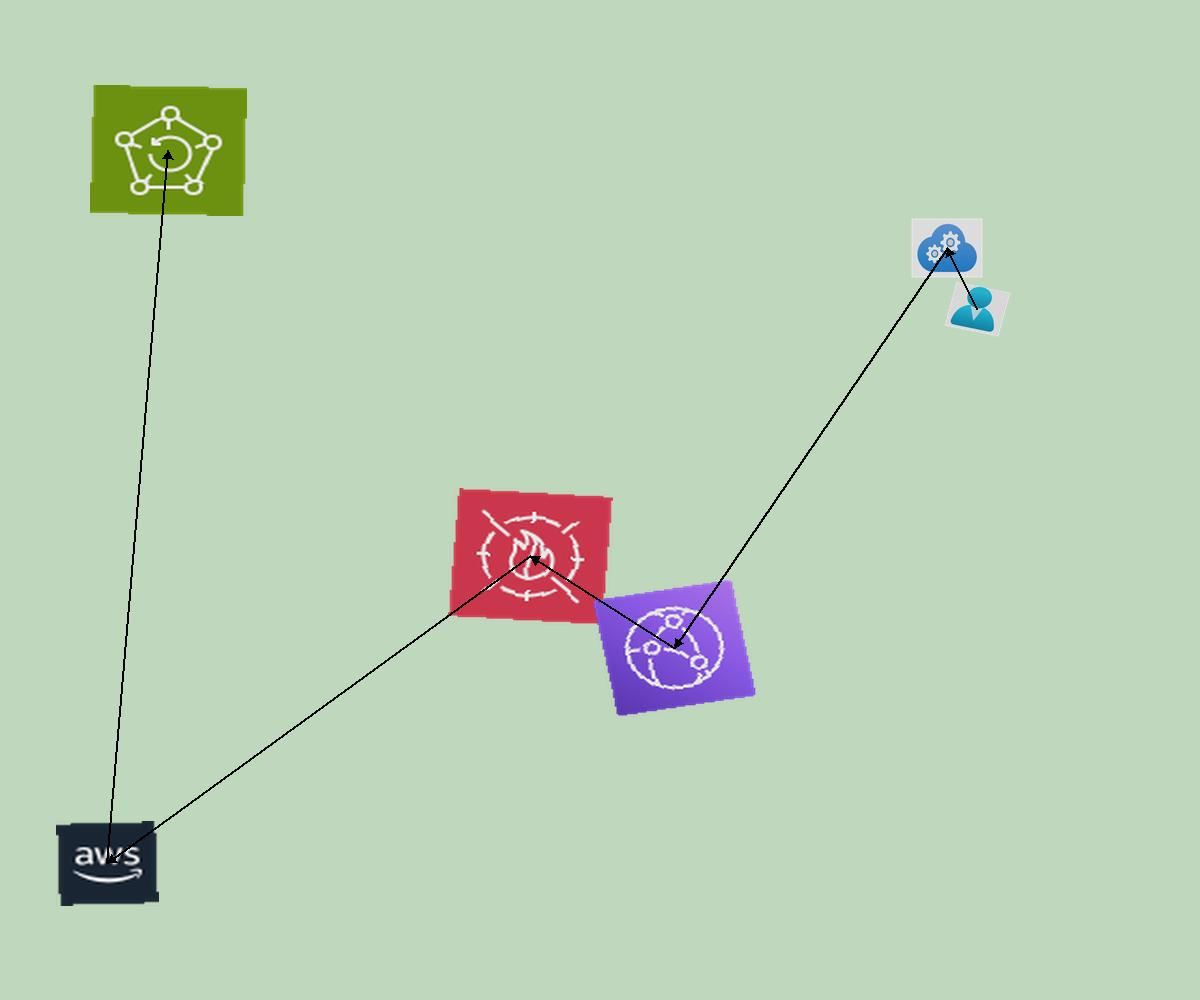AWS-Backup: (90, 85, 247, 216)
AWS-Cloud-logo: (56, 821, 159, 906)
AWS-CloudFront: (592, 579, 757, 717)
AWS-WAF: (448, 488, 613, 625)
Azure_cloud_services: (911, 218, 983, 278)
Azure_users: (944, 281, 1011, 337)
